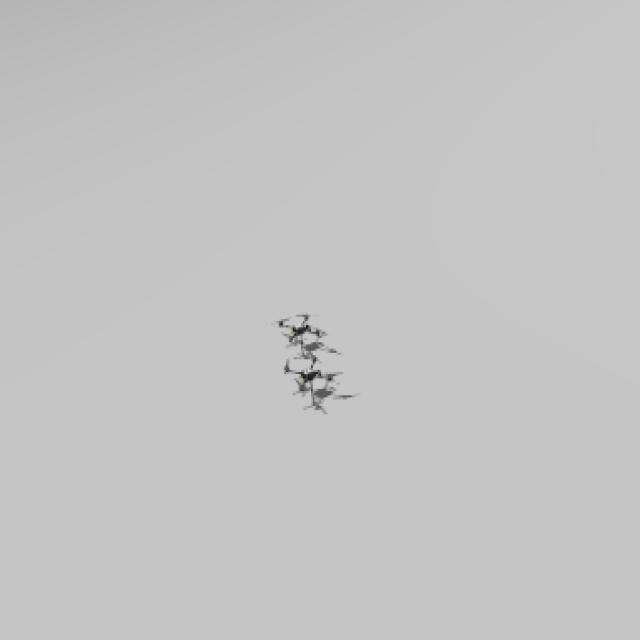drone: (281, 359, 342, 405), (273, 311, 327, 348)
